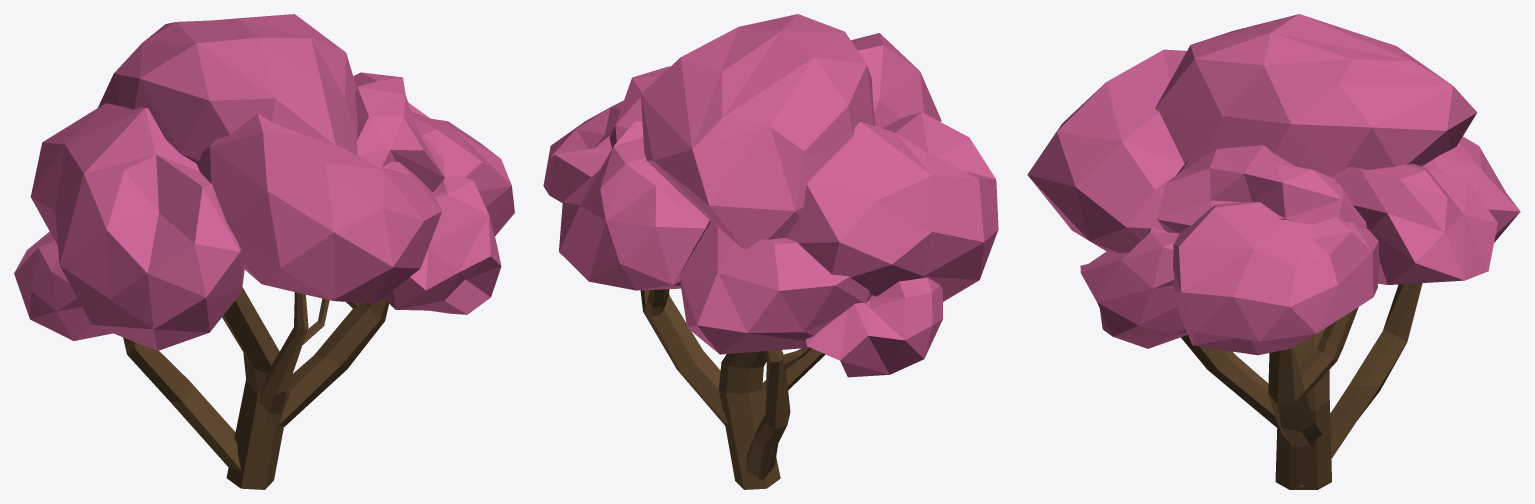
The model's file is Magnolia.fbx.
The picture shows the model from 3 angles, left to right: view 1: azimuth 30°, elevation 25°; view 2: azimuth 150°, elevation 25°; view 3: azimuth 270°, elevation 25°; orthographic projection. The views are drawn at different scales.
Parts seen in each view (by area): view 1: Magnolia; view 2: Magnolia; view 3: Magnolia.
Boxes of the visible parts, x1,y1,x2,y2 form: Magnolia: [14, 14, 514, 489]; Magnolia: [543, 14, 998, 489]; Magnolia: [1027, 14, 1520, 489].
Bounding box in the file's own units: 2 × 2 × 2.
